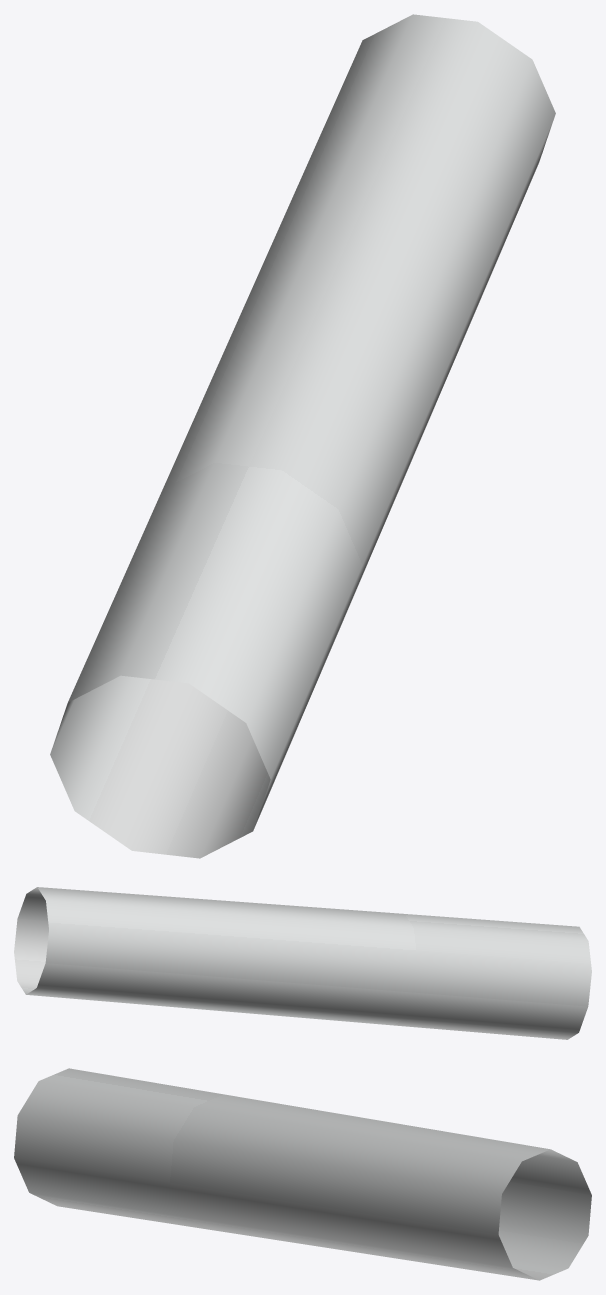
The model's file is nycsignalarm_diagonal8_c10.obj.
3 views of the same model, one above another, from view 1: azimuth 30°, elevation 25°; view 2: azimuth 150°, elevation 25°; view 3: azimuth 270°, elevation 25° (orthographic). The views are drawn at different scales.
Parts seen in each view (by area): view 1: nycsignalarm_diagonal8_c10; view 2: nycsignalarm_diagonal8_c10; view 3: nycsignalarm_diagonal8_c10.
Boxes of the visible parts, box(x1,y1,x2,y2) form: nycsignalarm_diagonal8_c10: box(50, 14, 555, 858); nycsignalarm_diagonal8_c10: box(14, 887, 591, 1039); nycsignalarm_diagonal8_c10: box(14, 1068, 591, 1280).
Size of the model in its own units: 1.2 by 0.5505 by 1.2.
